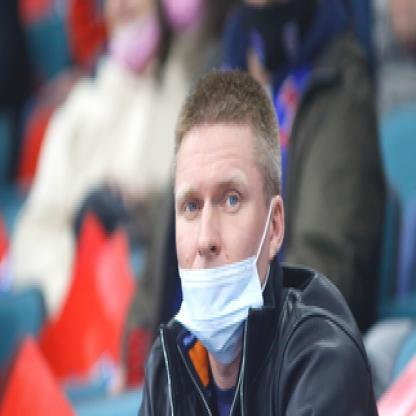mask_weared_incorrect: (172, 147, 286, 367)
